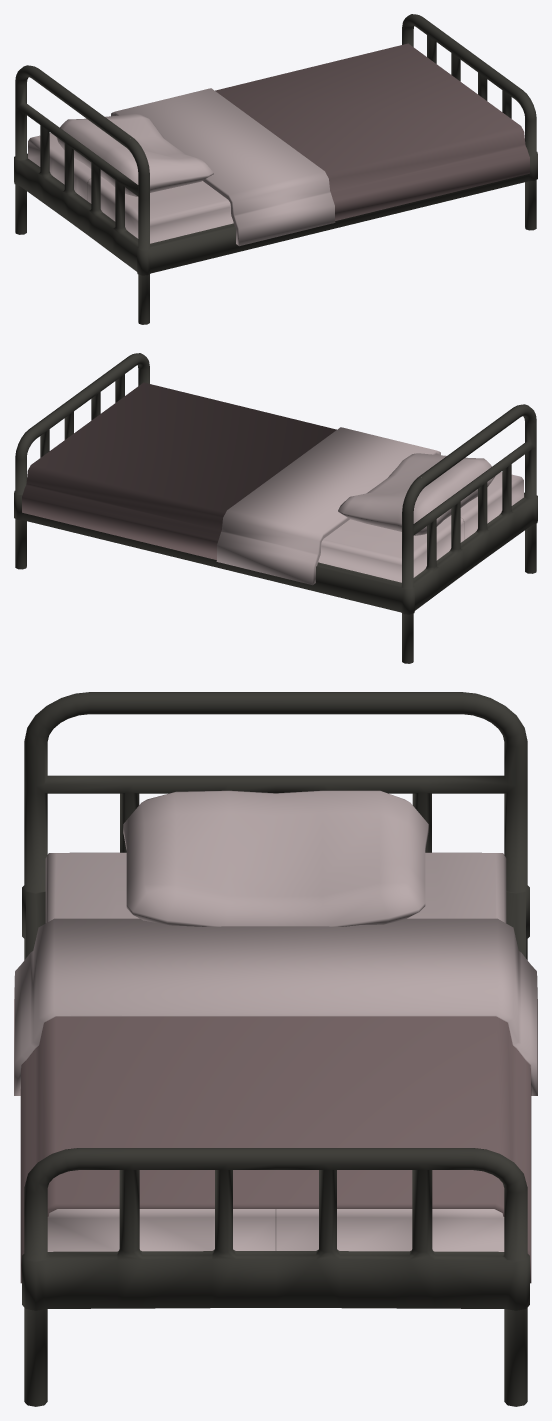
File: SM_Bed.fbx
The picture shows the model from 3 angles, top to bottom: view 1: azimuth 30°, elevation 25°; view 2: azimuth 150°, elevation 25°; view 3: azimuth 270°, elevation 25°; orthographic projection. The views are drawn at different scales.
Visible parts, largest first — view 1: Bed; view 2: Bed; view 3: Bed.
Boxes of the visible parts, box(x1,y1,x2,y2) form: Bed: box(14, 14, 537, 324); Bed: box(14, 353, 537, 663); Bed: box(14, 692, 537, 1406).
Size of the model in its own units: 252 by 105 by 147.
